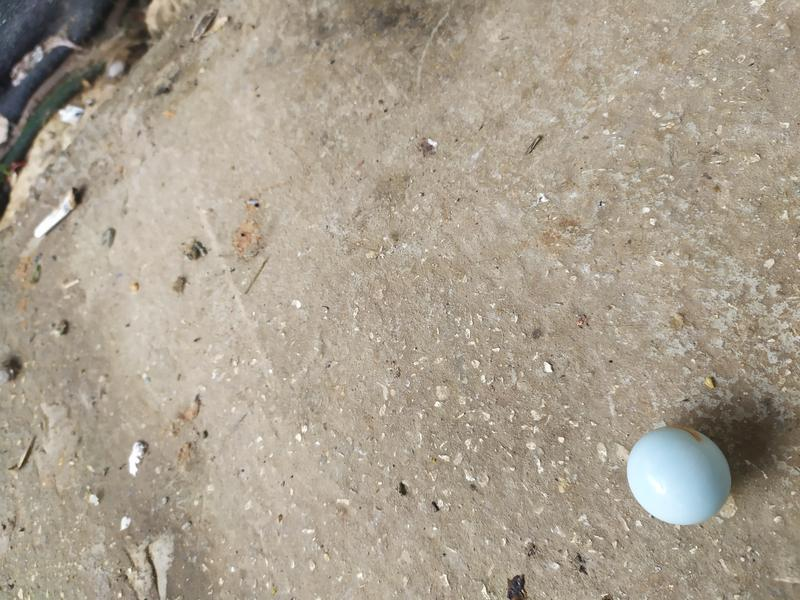Warning: (623, 422, 739, 528)
